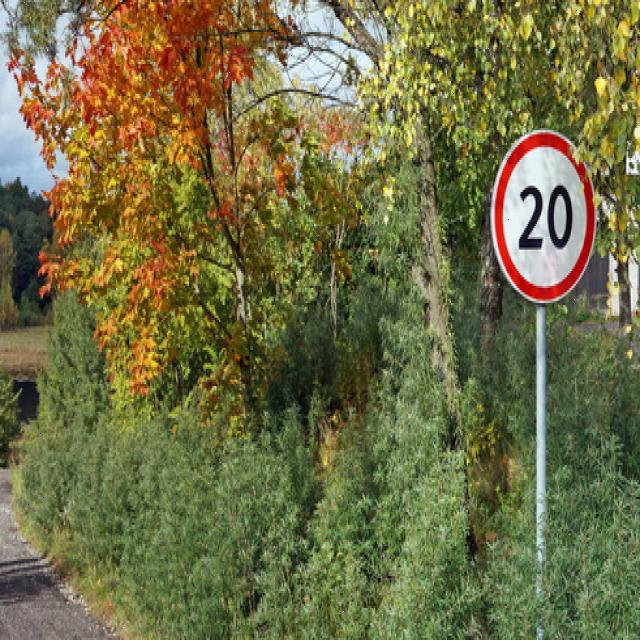speed limit 20: (491, 131, 598, 304)
